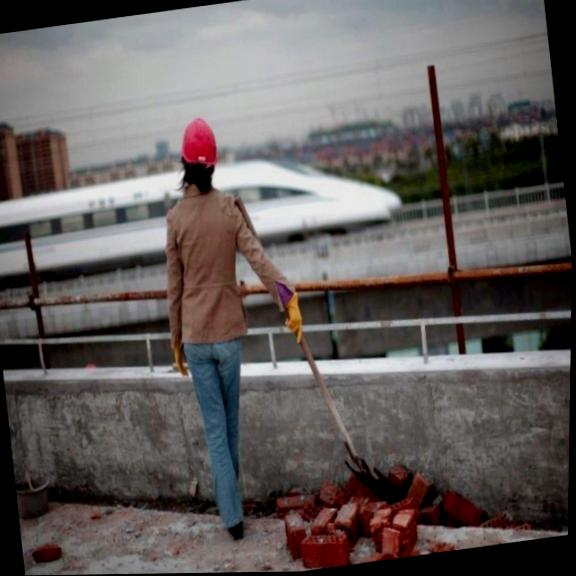no_safety_vest: (159, 180, 268, 354)
